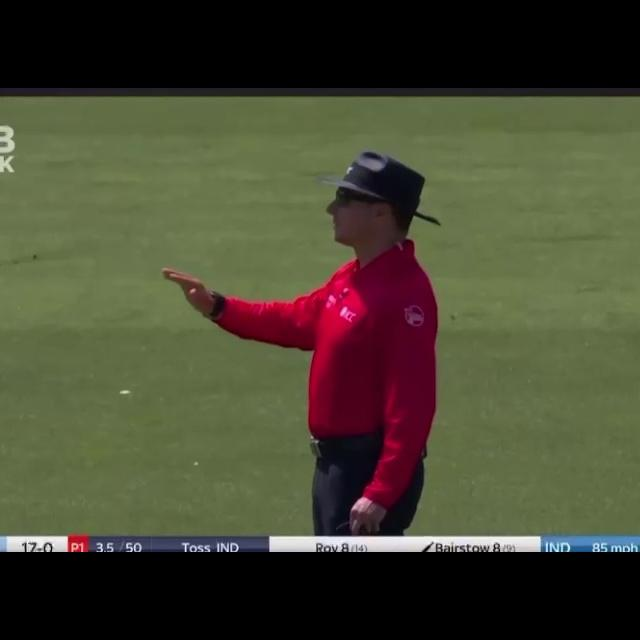umpire: (153, 142, 463, 538)
